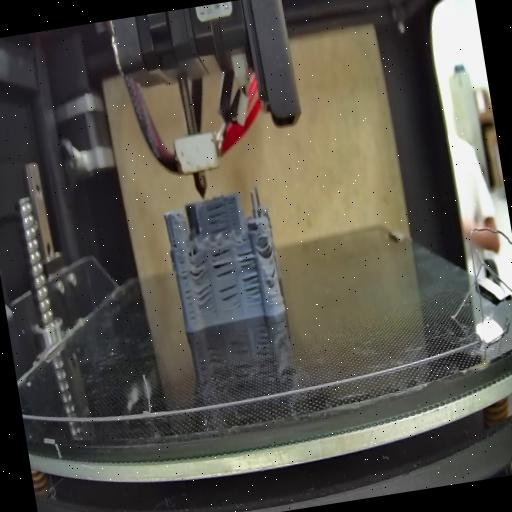cracks: (178, 260, 198, 322), (203, 198, 231, 234), (239, 270, 263, 306), (210, 246, 236, 277), (218, 283, 242, 315), (193, 282, 215, 312), (188, 254, 208, 282), (236, 246, 258, 270), (258, 240, 274, 260), (168, 230, 180, 250), (268, 268, 278, 280)
